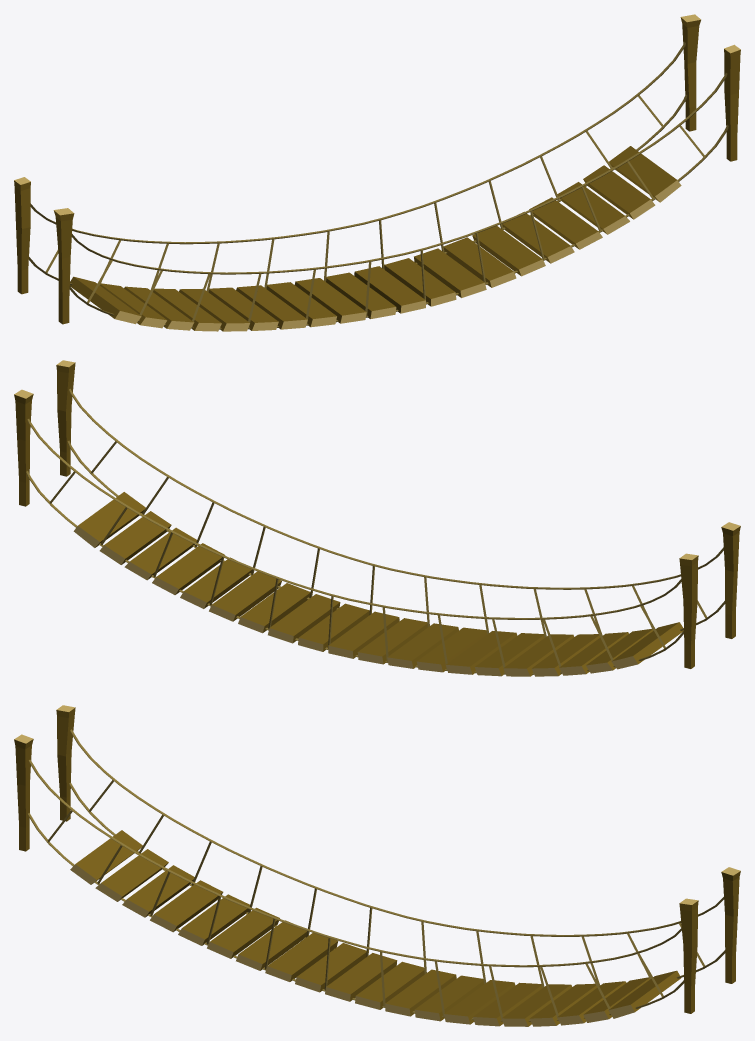
Rendered from bridge.fbx.
3 views of the same model, one above another, from view 1: azimuth 30°, elevation 25°; view 2: azimuth 150°, elevation 25°; view 3: azimuth 330°, elevation 25° (orthographic).
Parts seen in each view (by area): view 1: Cube.001; view 2: Cube.001; view 3: Cube.001.
Boxes of the visible parts, bbox=[...] form: Cube.001: bbox=[14, 14, 740, 331]; Cube.001: bbox=[14, 360, 740, 676]; Cube.001: bbox=[14, 705, 740, 1026].
Bounding box in the file's own units: 1512 × 387 × 192.
